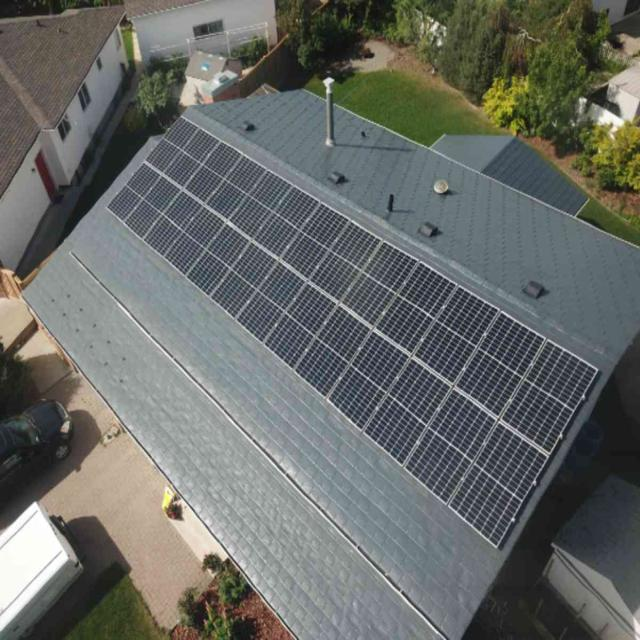clean-solar-panel: (110, 120, 599, 547)
